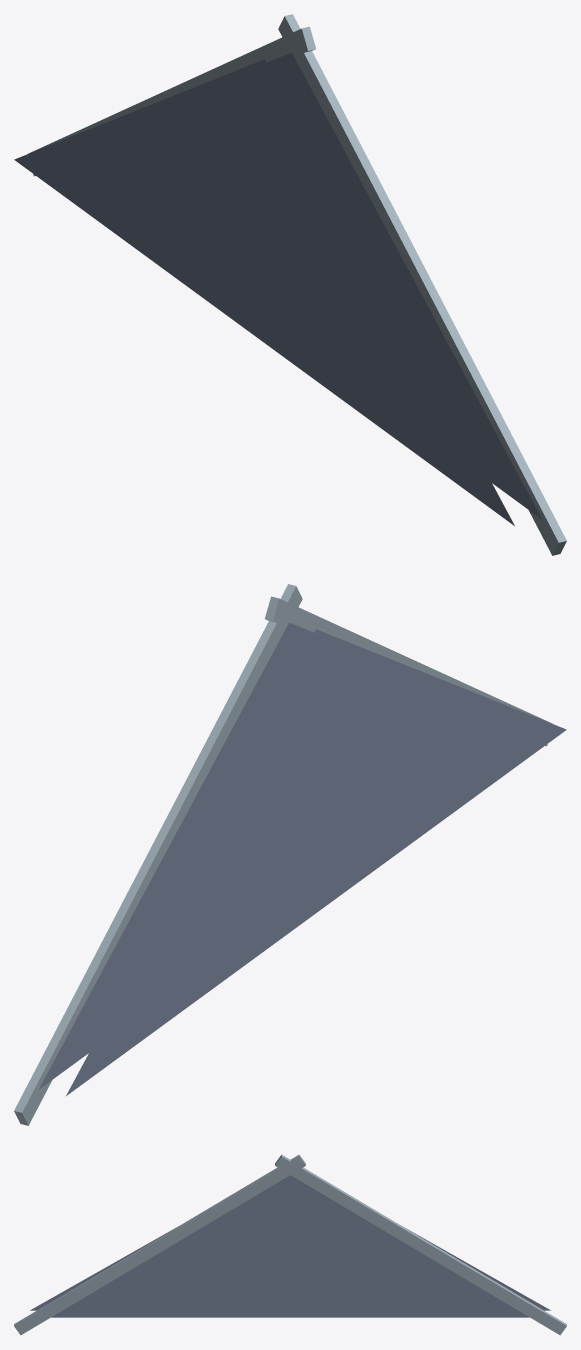
File: roof_end_planks.glb
3 renders of one model, top to bottom at view 1: azimuth 30°, elevation 25°; view 2: azimuth 150°, elevation 25°; view 3: azimuth 270°, elevation 25°, orthographic. The views are drawn at different scales.
Visible parts, largest first — view 1: roof_end_planks; view 2: roof_end_planks; view 3: roof_end_planks.
Boxes of the visible parts, bbox=[...] form: roof_end_planks: bbox=[14, 14, 566, 555]; roof_end_planks: bbox=[14, 584, 566, 1125]; roof_end_planks: bbox=[14, 1154, 566, 1335].
Size of the model in its own units: 0.54 by 4.84 by 13.56.
